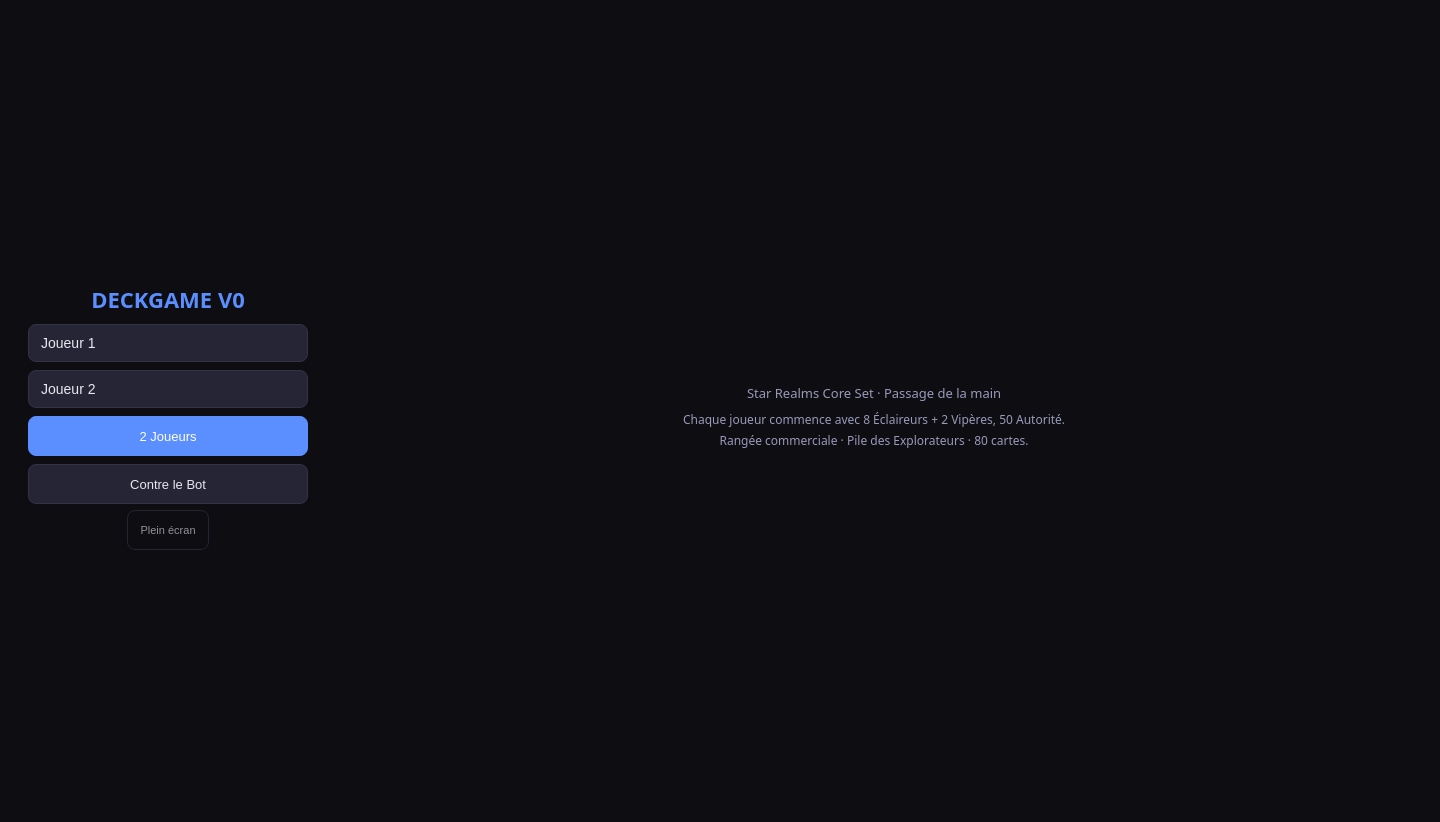
Test: PATCH 0043 — A. StartScreen paysage (layout 2 colonnes) › Landscape : cliquer Contre le Bot lance le plateau paysage
Step 1. Click the button "Contre le Bot" → click(168, 484), box [28,464,308,504]
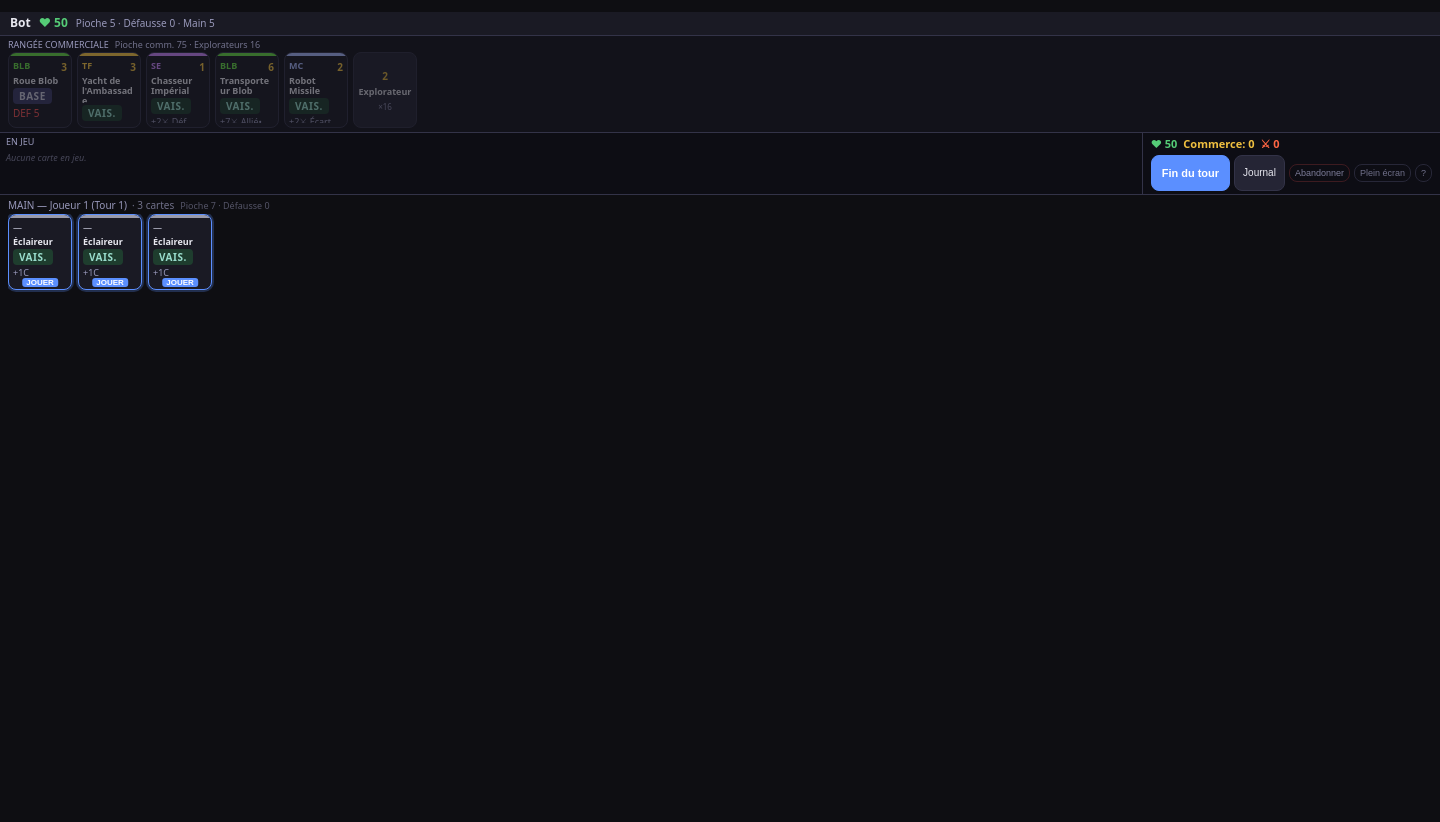
Expected: the text "Main" is shown, [183,16,206,30]
Now the element that starts with "Bot" is shown
